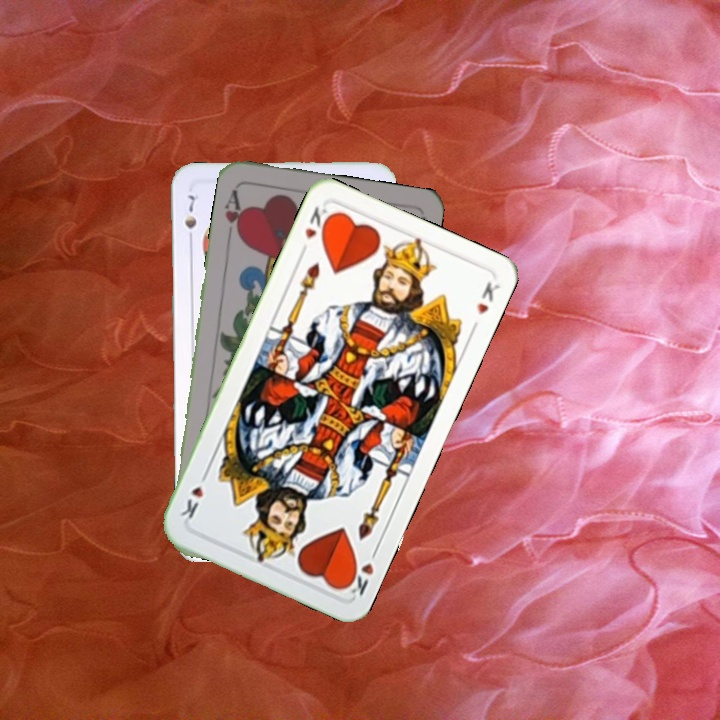HA: (220, 186, 247, 243)
HK: (340, 543, 381, 599), (296, 202, 329, 258)
S7: (180, 190, 200, 247)
